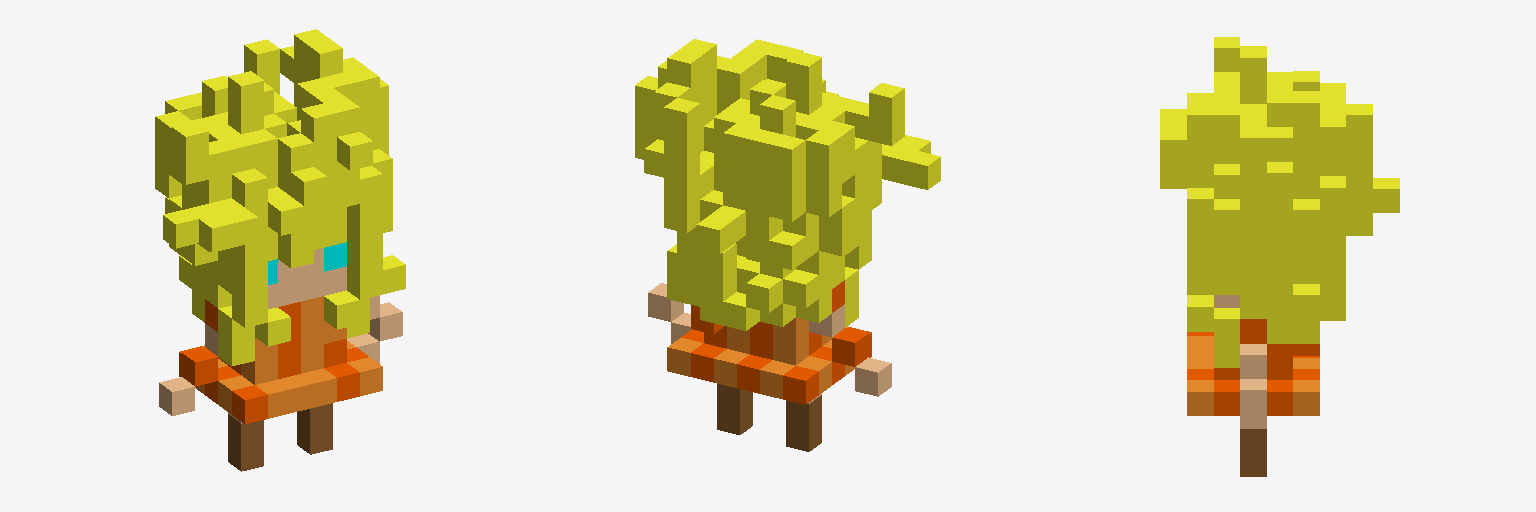
3 views of the same model, side by side, from view 1: azimuth 30°, elevation 25°; view 2: azimuth 150°, elevation 25°; view 3: azimuth 270°, elevation 25° (orthographic).
Parts seen in each view (by area): view 1: object 1; view 2: object 1; view 3: object 1.
Boxes of the visible parts, <box> form: object 1: <box>155,29,405,471</box>; object 1: <box>635,39,940,451</box>; object 1: <box>1160,37,1399,476</box>.
Bounding box in the file's own units: 1.1 × 1.6 × 0.9.
1 materials, 1 textured.